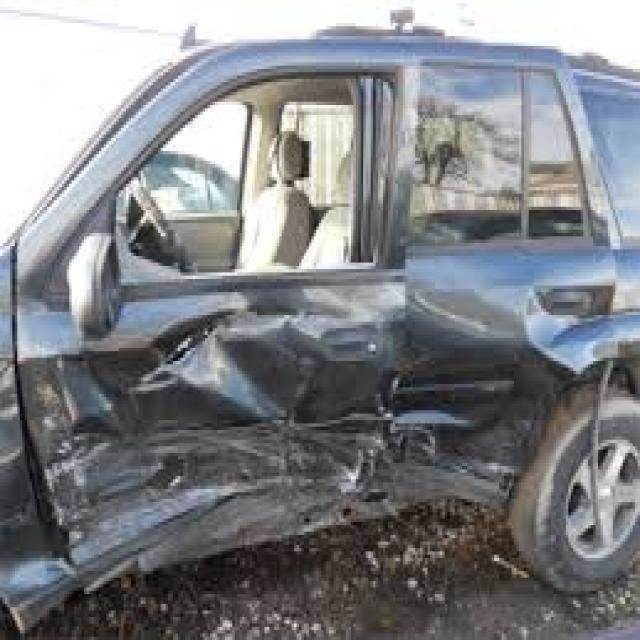moderate: (15, 83, 634, 611)
